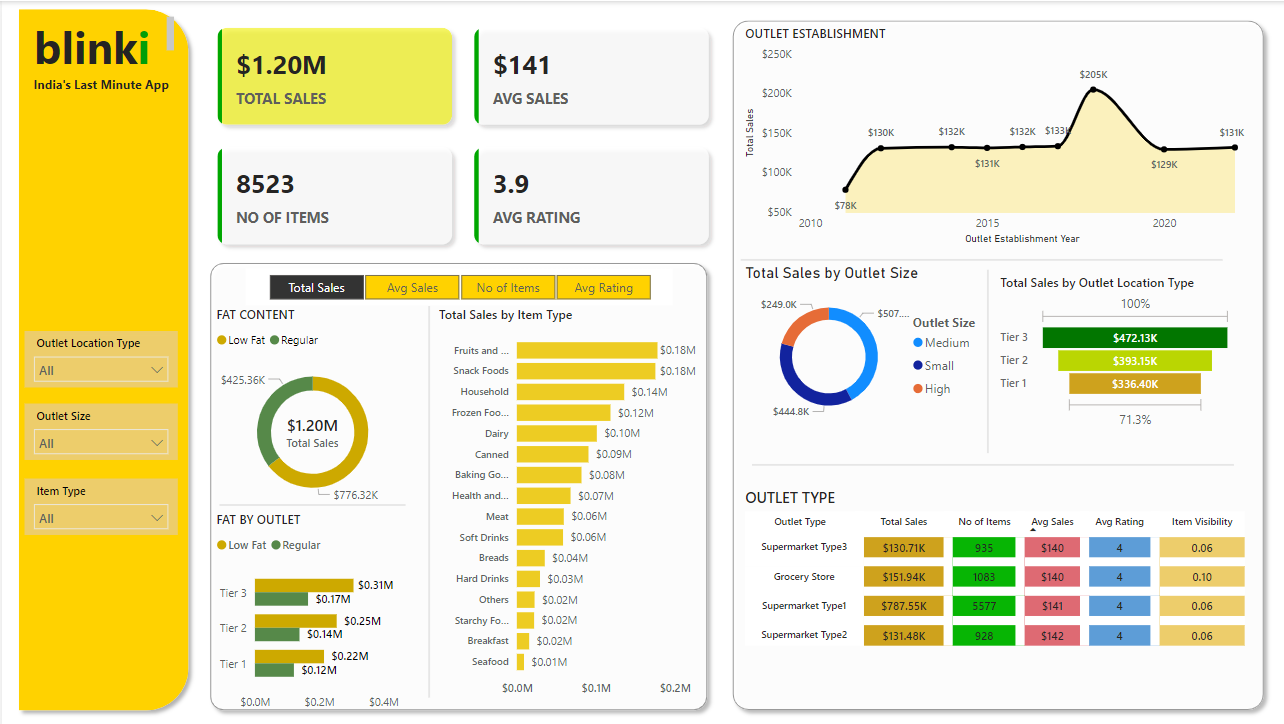

This screenshot's page, from the dashboard's own definition file:
{"tool":"powerbi","page":{"name":"Page 1","canvas":[1400,800],"ordinal":0},"visuals":[{"type":"shape","box":[10,0,202.9,782.9],"z":0},{"type":"textbox","box":[30,12.9,162.9,78.6],"z":1000},{"type":"textbox","box":[24.3,75.7,167.1,30],"z":2000},{"type":"cardVisual","fields":{"Data":["BlinkIT Grocery Data.Total Sales","BlinkIT Grocery Data.Avg Sales","BlinkIT Grocery Data.No of Items","BlinkIT Grocery Data.Avg Rating"]},"box":[218.6,12.9,570,270],"z":3000},{"type":"shape","box":[218.6,277.1,560,505.7],"z":4000},{"type":"donutChart","title":"FAT CONTENT","fields":{"Y":["BlinkIT Grocery Data.Total Sales"],"Category":["BlinkIT Grocery Data.Item Fat Content"]},"box":[228.9,332.4,220,230],"z":5000},{"type":"slicer","fields":{"Values":["Metrics.Metrics"]},"box":[266,292.4,465.7,40],"z":6000},{"type":"cardVisual","fields":{"Data":["BlinkIT Grocery Data.Total Sales"]},"box":[278.9,421,118.6,98.6],"z":7000},{"type":"clusteredBarChart","title":"FAT BY OUTLET","fields":{"Y":["BlinkIT Grocery Data.Total Sales"],"Category":["BlinkIT Grocery Data.Outlet Location Type"],"Series":["BlinkIT Grocery Data.Item Fat Content"]},"box":[228.6,555.7,220,227.1],"z":8000},{"type":"shape","box":[237.4,543.9,202.9,11.4],"z":9000},{"type":"shape","box":[458.9,332.4,12.9,427.1],"z":10000},{"type":"clusteredBarChart","fields":{"Y":["BlinkIT Grocery Data.Total Sales"],"Category":["BlinkIT Grocery Data.Item Type"]},"box":[471.4,332.9,307.1,435.7],"z":11000},{"type":"shape","box":[788.6,12.9,597.1,770],"z":12000},{"type":"lineChart","title":"OUTLET ESTABLISHMENT","fields":{"Y":["BlinkIT Grocery Data.Total Sales"],"Category":["BlinkIT Grocery Data.Outlet Establishment Year"]},"box":[805.7,25.7,557.1,244.3],"z":13000},{"type":"donutChart","fields":{"Y":["BlinkIT Grocery Data.Total Sales"],"Category":["BlinkIT Grocery Data.Outlet Size"]},"box":[805.7,285.7,278.6,184.3],"z":14000},{"type":"shape","box":[805.7,280,525.7,5.7],"z":15000},{"type":"shape","box":[1068.6,292.9,12.9,200],"z":16000},{"type":"funnel","fields":{"Y":["BlinkIT Grocery Data.Total Sales"],"Category":["BlinkIT Grocery Data.Outlet Location Type"]},"box":[1084.3,297.1,262.9,172.9],"z":17000},{"type":"pivotTable","title":"OUTLET TYPE","fields":{"Rows":["BlinkIT Grocery Data.Outlet Type"],"Values":["BlinkIT Grocery Data.Total Sales","BlinkIT Grocery Data.No of Items","BlinkIT Grocery Data.Avg Sales","BlinkIT Grocery Data.Avg Rating","Avg(BlinkIT Grocery Data.Item Visibility)"]},"box":[805.7,530,557.1,208.6],"z":18000},{"type":"shape","box":[818.6,502.9,525.7,5.7],"z":19000},{"type":"slicer","fields":{"Values":["BlinkIT Grocery Data.Outlet Location Type"]},"box":[24.3,360,167.1,61.4],"z":20000},{"type":"slicer","fields":{"Values":["BlinkIT Grocery Data.Outlet Size"]},"box":[24.3,438.6,167.1,61.4],"z":20001},{"type":"slicer","fields":{"Values":["BlinkIT Grocery Data.Item Type"]},"box":[24.3,521.4,167.1,61.4],"z":20002}]}

Visuals, with their boxes in screenshot pixels (x1, y1, x2, y2), scaled from the page's 1400x800 canvas onto the 1284x724 screenshot:
shape: x1=9 y1=0 x2=195 y2=709
textbox: x1=28 y1=12 x2=177 y2=83
textbox: x1=22 y1=69 x2=176 y2=96
cardVisual - BlinkIT Grocery Data.Total Sales x BlinkIT Grocery Data.Avg Sales: x1=200 y1=12 x2=723 y2=256
shape: x1=200 y1=251 x2=714 y2=708
"FAT CONTENT" donutChart: x1=210 y1=301 x2=412 y2=509
slicer - Metrics.Metrics: x1=244 y1=265 x2=671 y2=301
cardVisual - BlinkIT Grocery Data.Total Sales: x1=256 y1=381 x2=365 y2=470
"FAT BY OUTLET" clusteredBarChart: x1=210 y1=503 x2=411 y2=708
shape: x1=218 y1=492 x2=404 y2=503
shape: x1=421 y1=301 x2=433 y2=687
clusteredBarChart - BlinkIT Grocery Data.Total Sales x BlinkIT Grocery Data.Item Type: x1=432 y1=301 x2=714 y2=696
shape: x1=723 y1=12 x2=1271 y2=709
"OUTLET ESTABLISHMENT" lineChart: x1=739 y1=23 x2=1250 y2=244
donutChart - BlinkIT Grocery Data.Total Sales x BlinkIT Grocery Data.Outlet Size: x1=739 y1=259 x2=994 y2=425
shape: x1=739 y1=253 x2=1221 y2=259
shape: x1=980 y1=265 x2=992 y2=446
funnel - BlinkIT Grocery Data.Total Sales x BlinkIT Grocery Data.Outlet Location Type: x1=994 y1=269 x2=1236 y2=425
"OUTLET TYPE" pivotTable: x1=739 y1=480 x2=1250 y2=668
shape: x1=751 y1=455 x2=1233 y2=460
slicer - BlinkIT Grocery Data.Outlet Location Type: x1=22 y1=326 x2=176 y2=381
slicer - BlinkIT Grocery Data.Outlet Size: x1=22 y1=397 x2=176 y2=452
slicer - BlinkIT Grocery Data.Item Type: x1=22 y1=472 x2=176 y2=527
